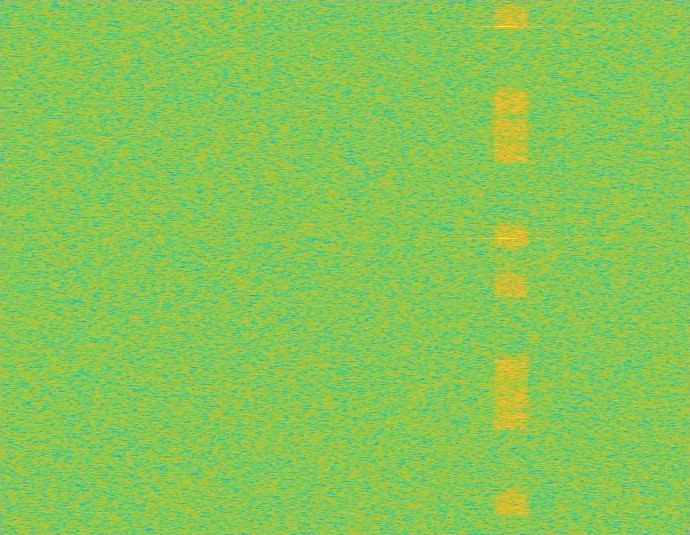LTE: (494, 0, 528, 534)
Radar: (499, 0, 513, 534)
